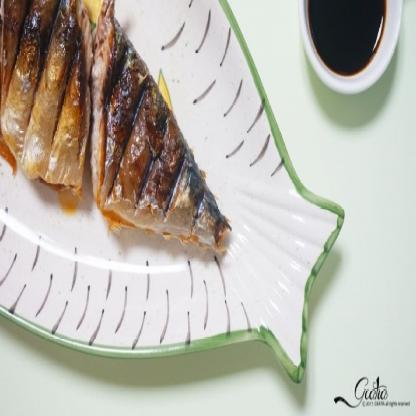Peixe: (0, 0, 247, 262)
